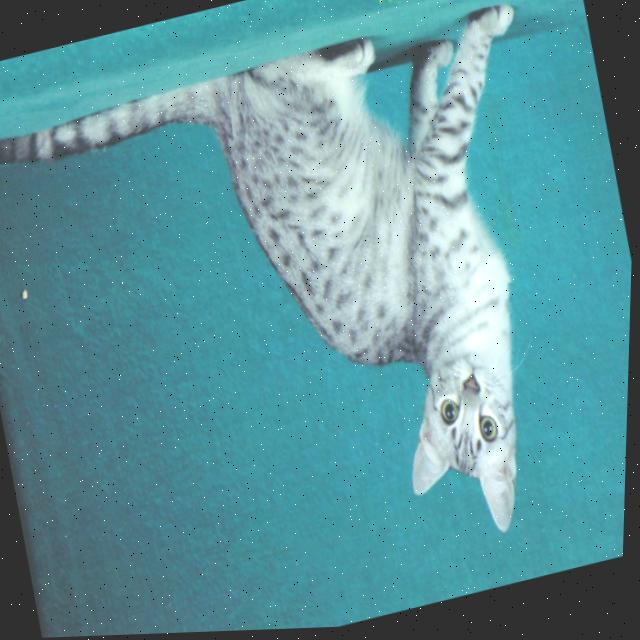Egyptian Mau: (0, 0, 623, 640)
